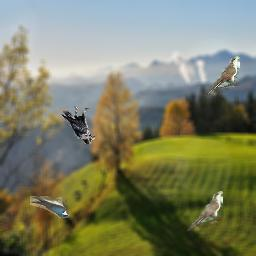Crow: (61, 105, 95, 145)
Cuckoo: (204, 56, 240, 96), (187, 191, 223, 231)
Swallow: (30, 196, 70, 218)
